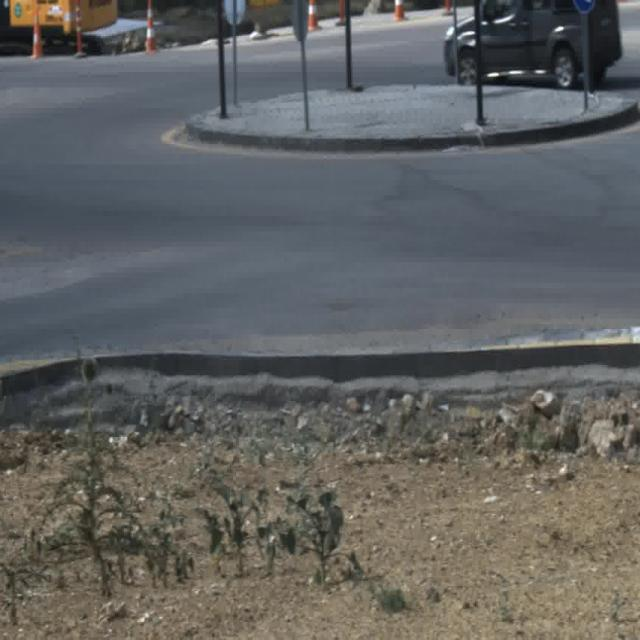Car: (442, 0, 622, 91)
